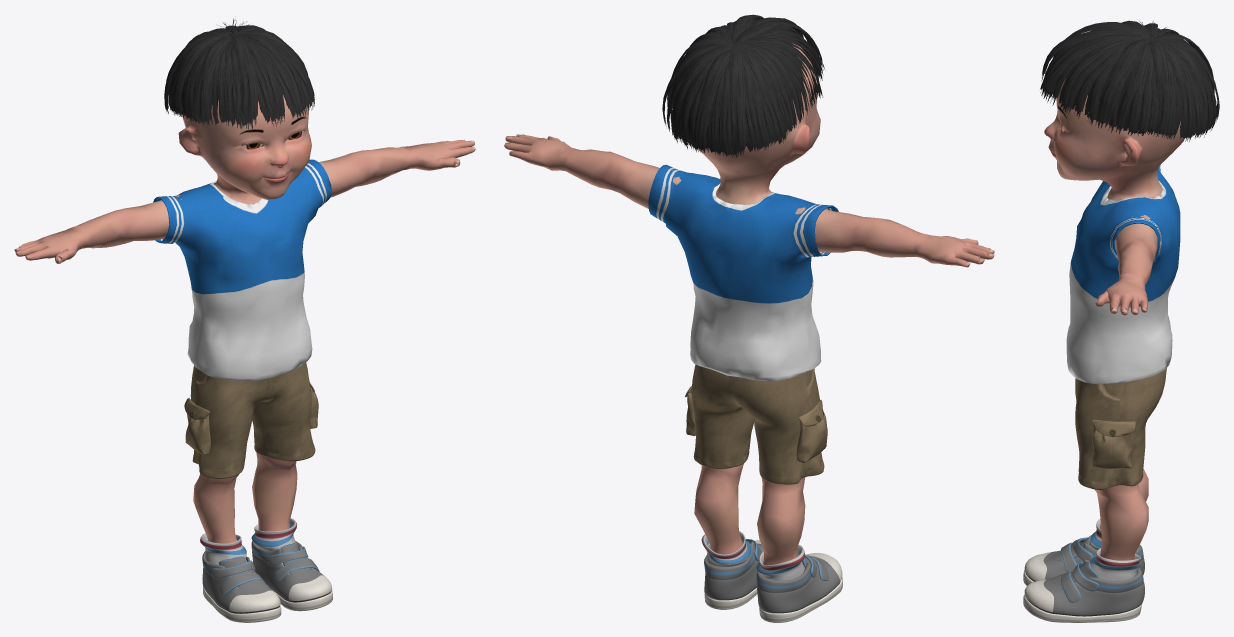
File: PunchDummy.fbx
The picture shows the model from 3 angles, left to right: view 1: azimuth 30°, elevation 25°; view 2: azimuth 150°, elevation 25°; view 3: azimuth 270°, elevation 25°; orthographic projection. The views are drawn at different scales.
Parts seen in each view (by area): view 1: Punch_asian_boy, Punch_asian_boy.001, Punch_Shoe; view 2: Punch_asian_boy, Punch_asian_boy.001, Punch_Shoe; view 3: Punch_asian_boy, Punch_asian_boy.001, Punch_Shoe.
Part boxes in pixels (x1,y1,x2,y2): Punch_asian_boy: (14,95,475,574); Punch_asian_boy.001: (164,18,314,130); Punch_Shoe: (200,518,332,622); Punch_asian_boy: (504,43,994,568); Punch_asian_boy.001: (662,14,825,157); Punch_Shoe: (701,531,842,622); Punch_asian_boy: (1044,79,1184,560); Punch_asian_boy.001: (1040,20,1219,141); Punch_Shoe: (1023,519,1144,622).
Bounding box in the file's own units: 190 × 221 × 68.11.
32 materials, 17 textured.
